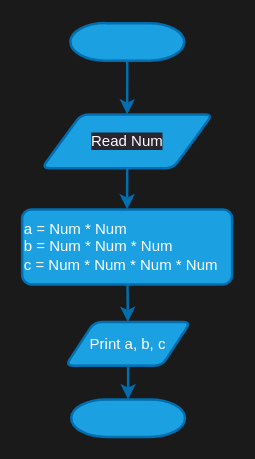
The diagram is 255 pixels wide and 459 high, and some of its shapes have lost their labels. The shapes that lost their labels are listed below. From the top down, each one's centre as x and y in pixels, then its label:
point (126, 41): Start
point (127, 418): End
